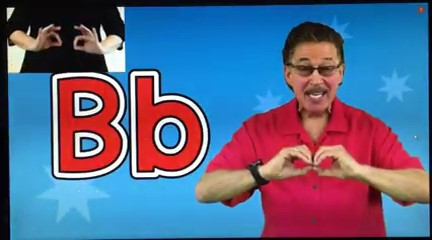B: (272, 143, 358, 184), (35, 21, 100, 58)
